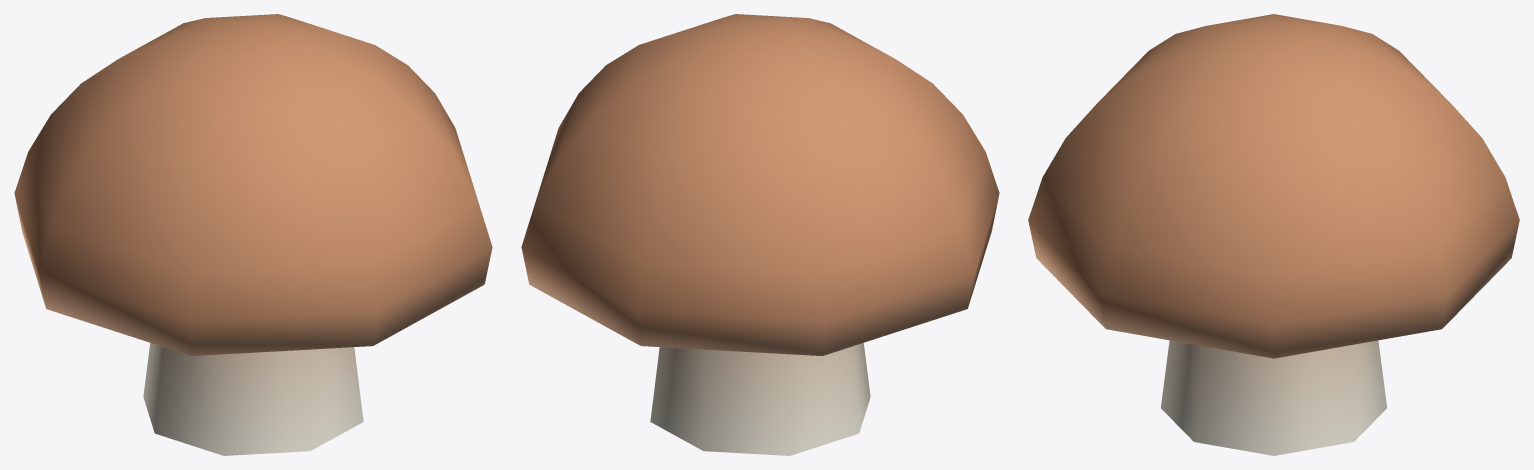
Rendered from mushroom_brown.fbx.
3 renders of one model, left to right at view 1: azimuth 30°, elevation 25°; view 2: azimuth 150°, elevation 25°; view 3: azimuth 270°, elevation 25°, orthographic.
Visible parts, largest first — view 1: mushroom_brown; view 2: mushroom_brown; view 3: mushroom_brown.
Boxes of the visible parts, x1,y1,x2,y2 form: mushroom_brown: (14, 14, 492, 455); mushroom_brown: (521, 14, 999, 455); mushroom_brown: (1028, 14, 1519, 455).
Bounding box in the file's own units: 36.77 × 30.61 × 36.77.
